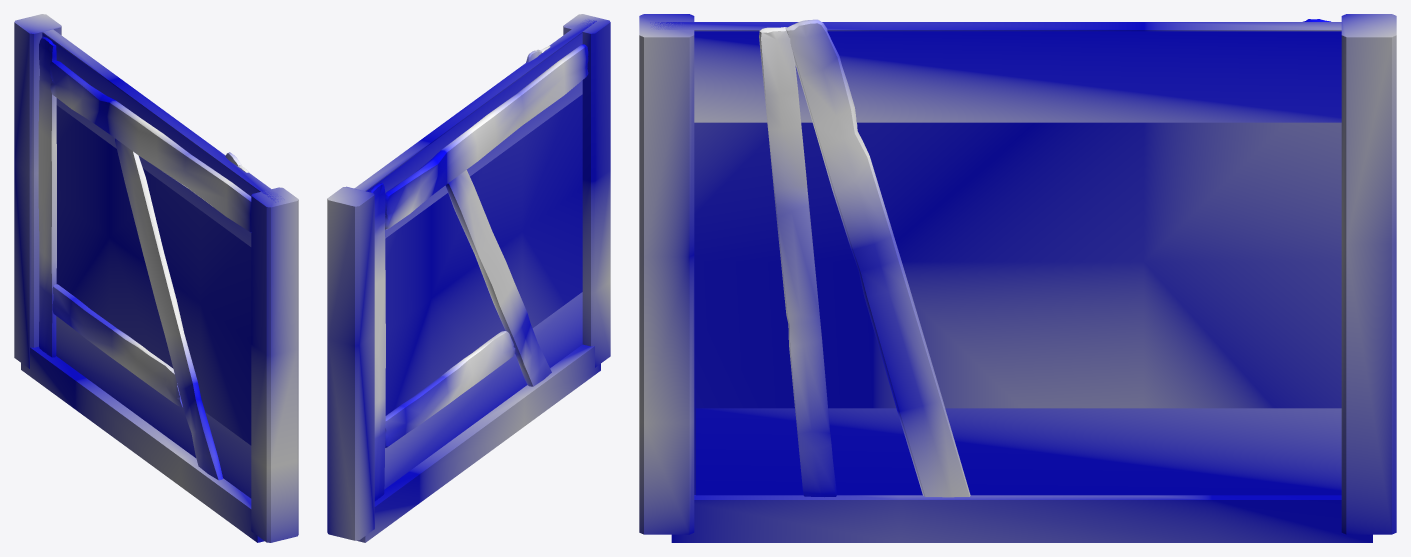
The model's file is SM_ShackFront4m_02.fbx.
The picture shows the model from 3 angles, left to right: view 1: azimuth 30°, elevation 25°; view 2: azimuth 150°, elevation 25°; view 3: azimuth 270°, elevation 25°; orthographic projection. The views are drawn at different scales.
Parts seen in each view (by area): view 1: SM_ShackFront4m_02_LOD0; view 2: SM_ShackFront4m_02_LOD0; view 3: SM_ShackFront4m_02_LOD0.
Boxes of the visible parts, x1,y1,x2,y2 form: SM_ShackFront4m_02_LOD0: [14, 14, 298, 542]; SM_ShackFront4m_02_LOD0: [327, 14, 610, 542]; SM_ShackFront4m_02_LOD0: [639, 14, 1396, 542].
Size of the model in its own units: 30 by 414 by 312.
